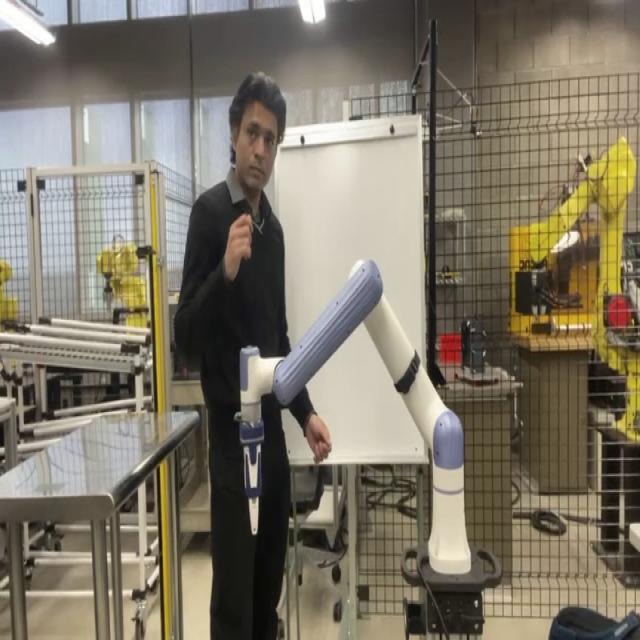robot: (234, 254, 503, 638)
